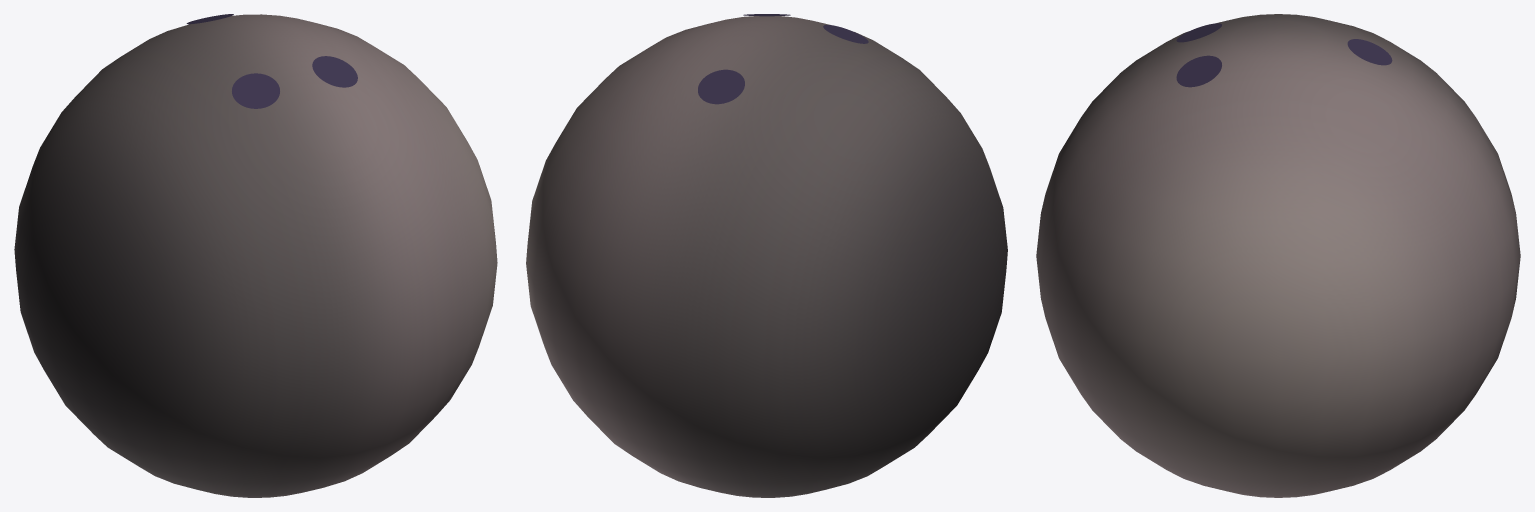
Rendered from ball_grey.gltf.
3 views of the same model, side by side, from view 1: azimuth 30°, elevation 25°; view 2: azimuth 150°, elevation 25°; view 3: azimuth 270°, elevation 25° (orthographic).
Parts seen in each view (by area): view 1: bowlingBall.003; view 2: bowlingBall.003; view 3: bowlingBall.003.
Part boxes in pixels (x1,y1,x2,y2): bowlingBall.003: (14, 14, 497, 497); bowlingBall.003: (526, 14, 1007, 497); bowlingBall.003: (1036, 14, 1520, 497).
Size of the model in its own units: 0.25 by 0.25 by 0.25.
1 material, 1 textured.
